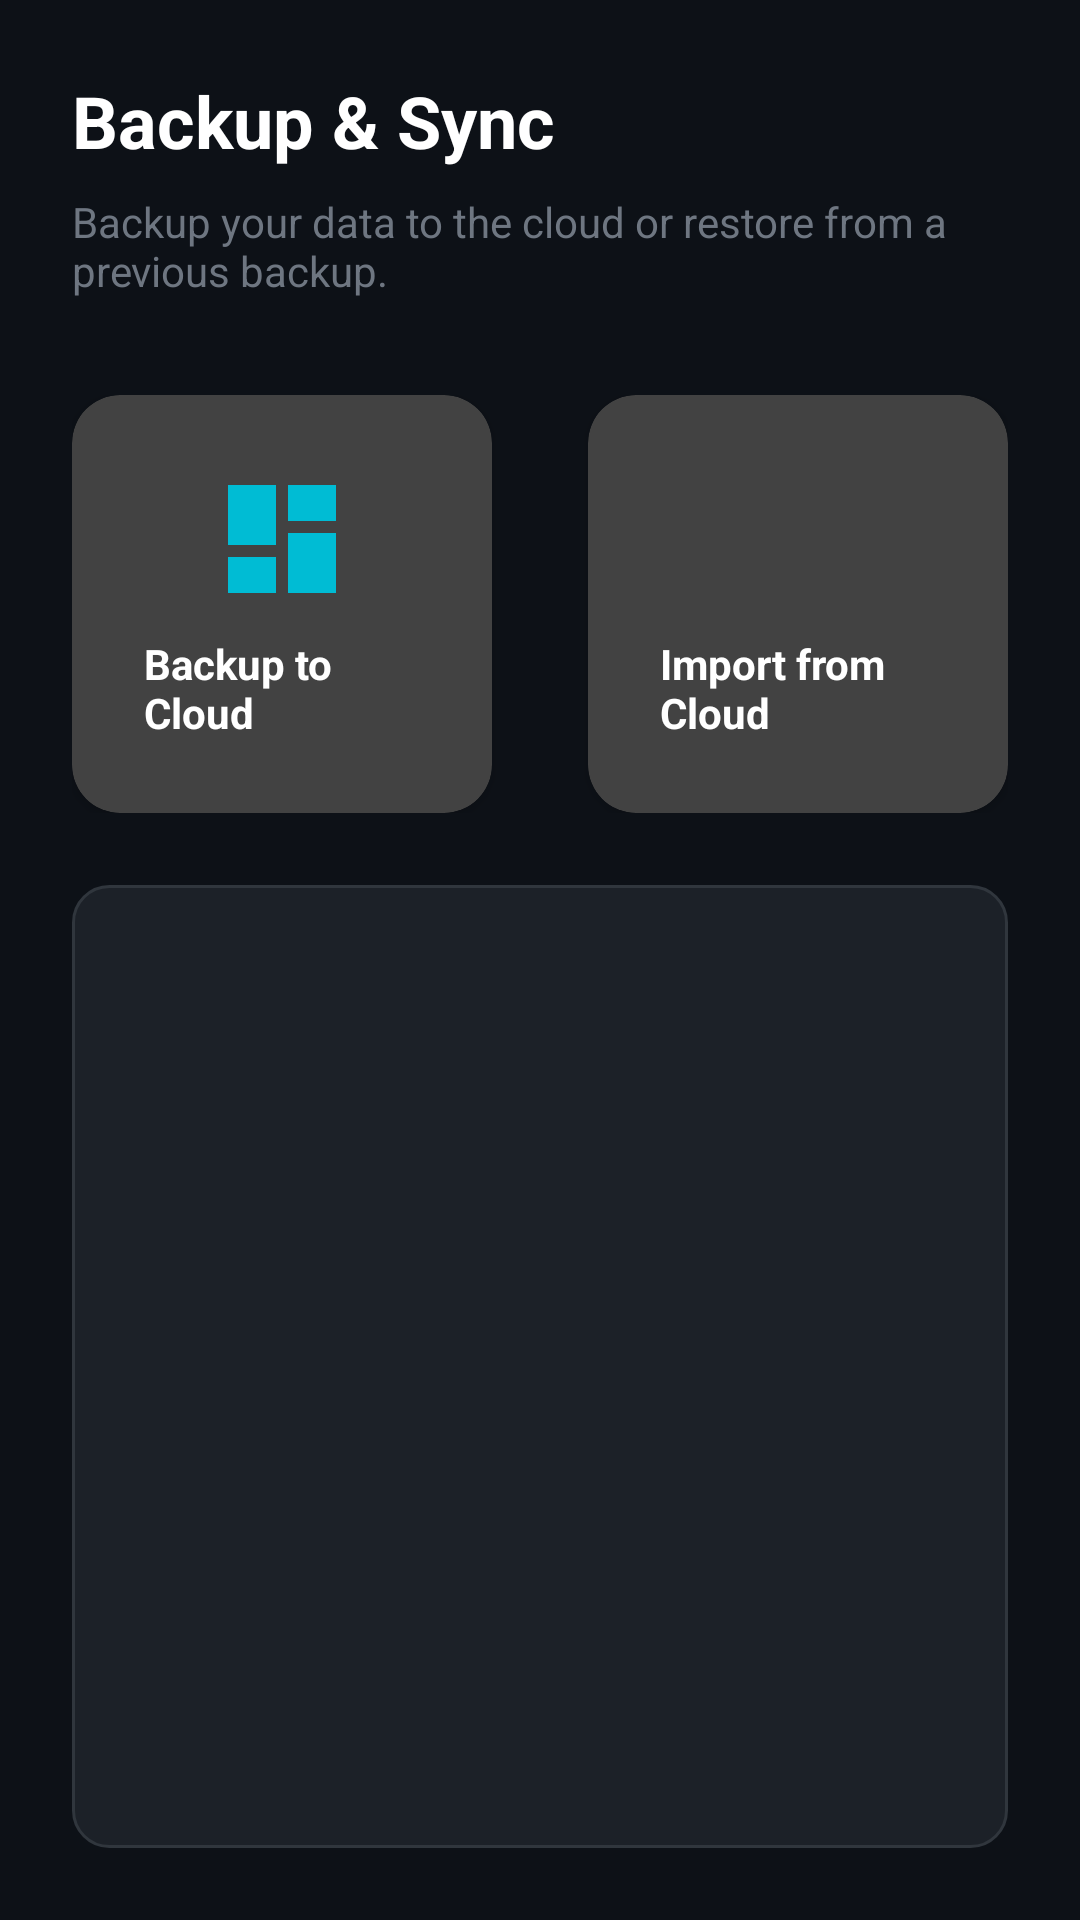

Icons on this 1080*1920 Android screen, each with the point to tap as (x,y):
dashboard: (282,539)
